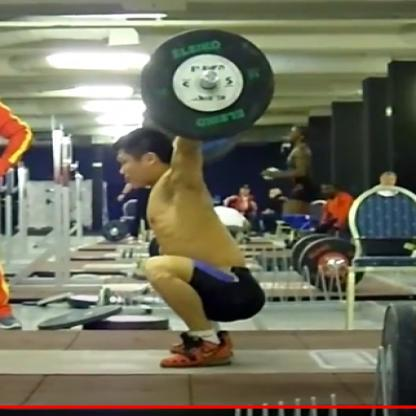Barbell: (133, 19, 283, 141)
